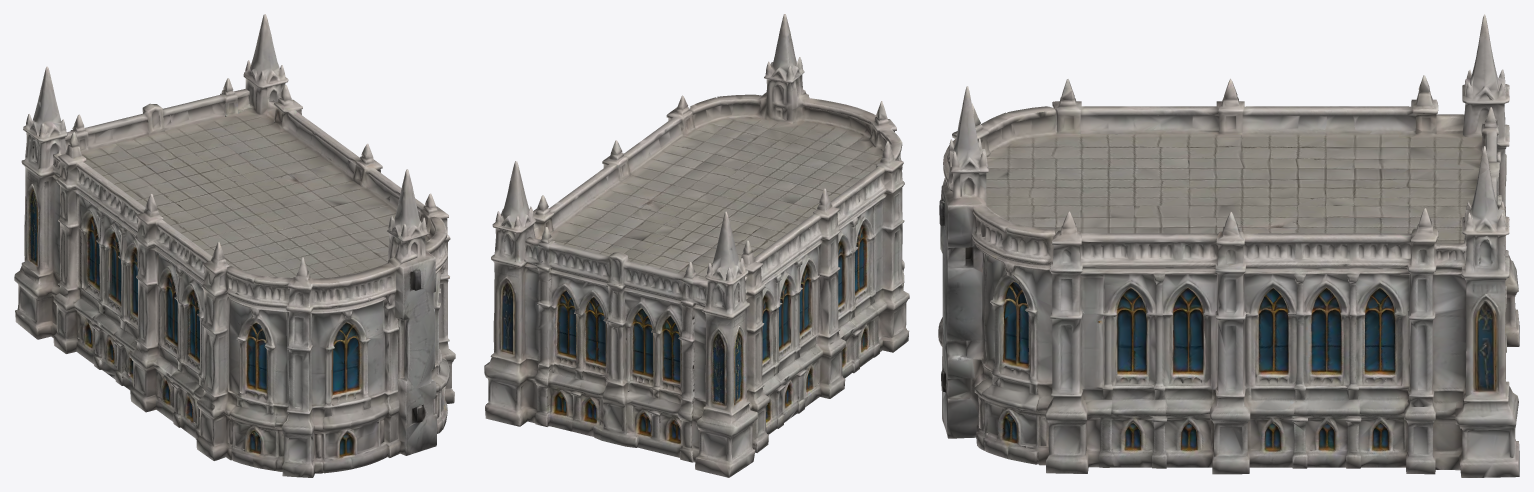
File: web.glb
3 views of the same model, side by side, from view 1: azimuth 30°, elevation 25°; view 2: azimuth 150°, elevation 25°; view 3: azimuth 270°, elevation 25° (orthographic). The views are drawn at different scales.
Visible parts, largest first — view 1: model; view 2: model; view 3: model.
Part boxes in pixels (<box>): model: <box>14,14,455,477</box>; model: <box>484,14,909,477</box>; model: <box>938,14,1519,477</box>.
Bounding box in the file's own units: 1.28 × 1.29 × 2.
1 material, 1 textured.
